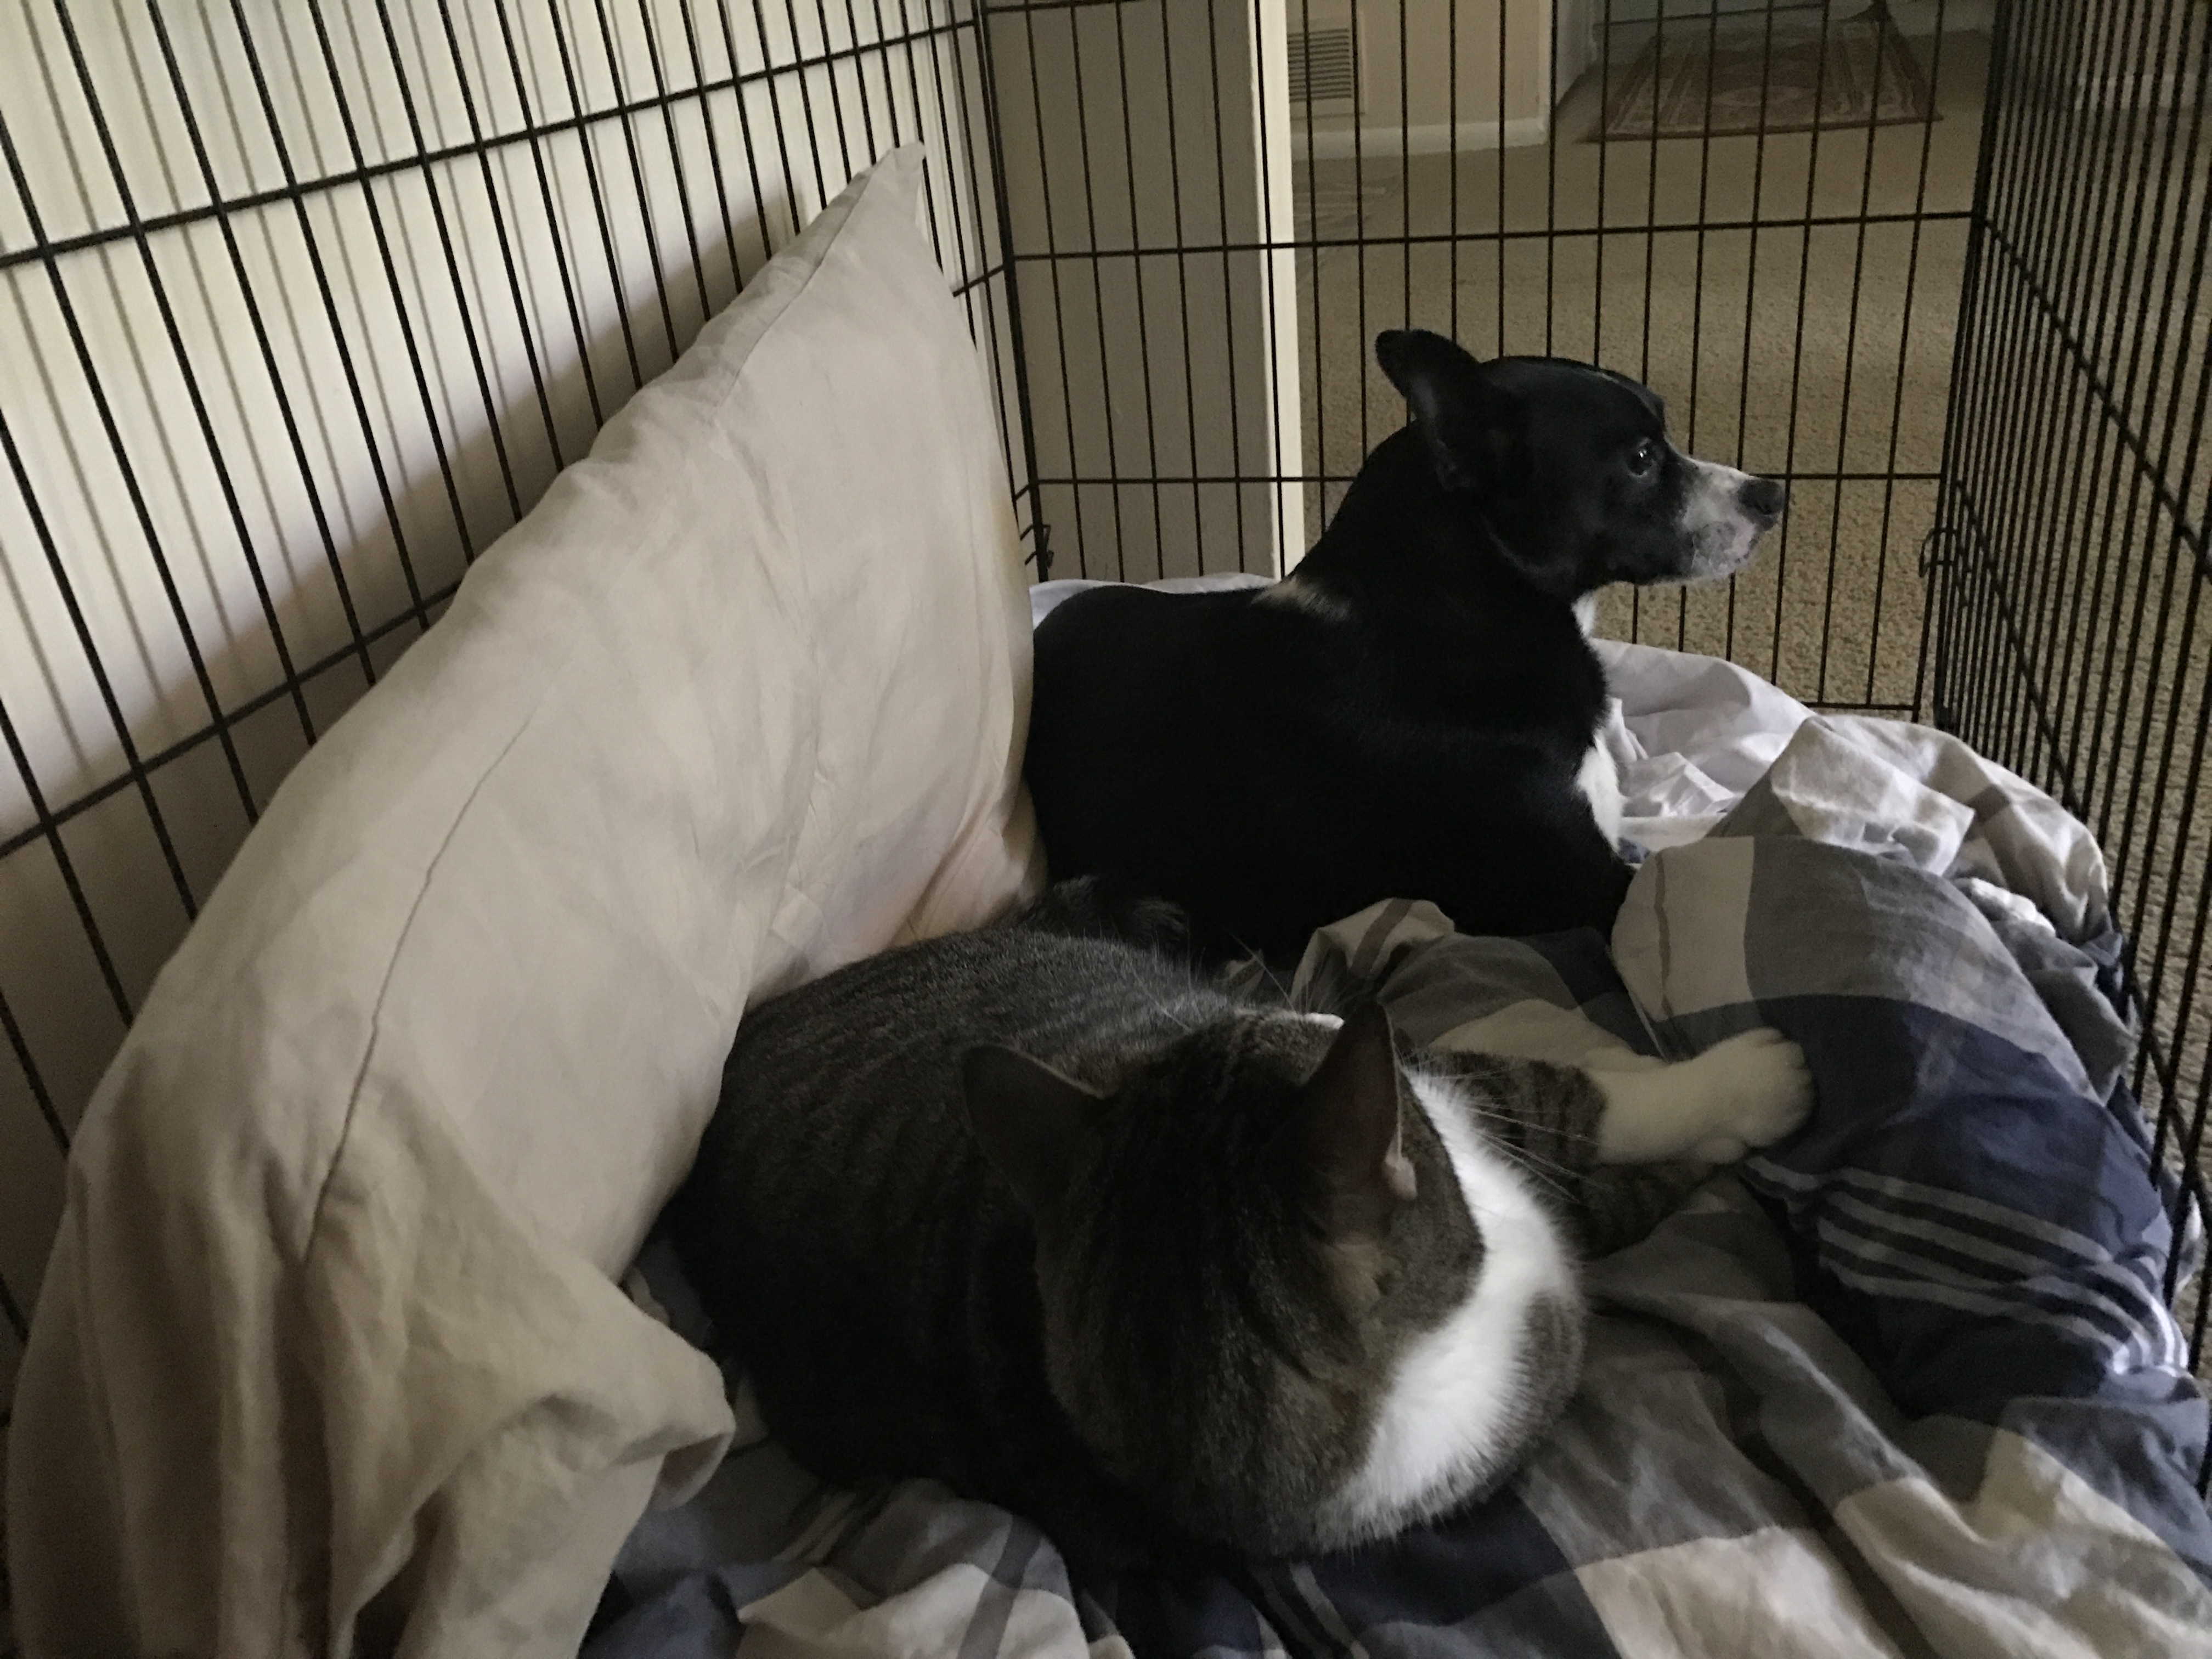Harley: (1005, 317, 1824, 976)
